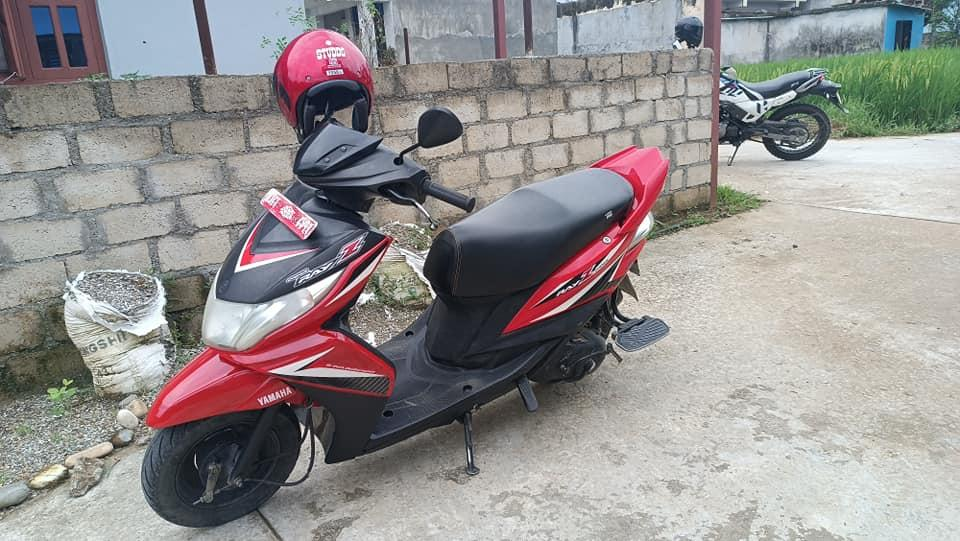bike: (719, 65, 845, 169)
scooter: (119, 77, 675, 532)
